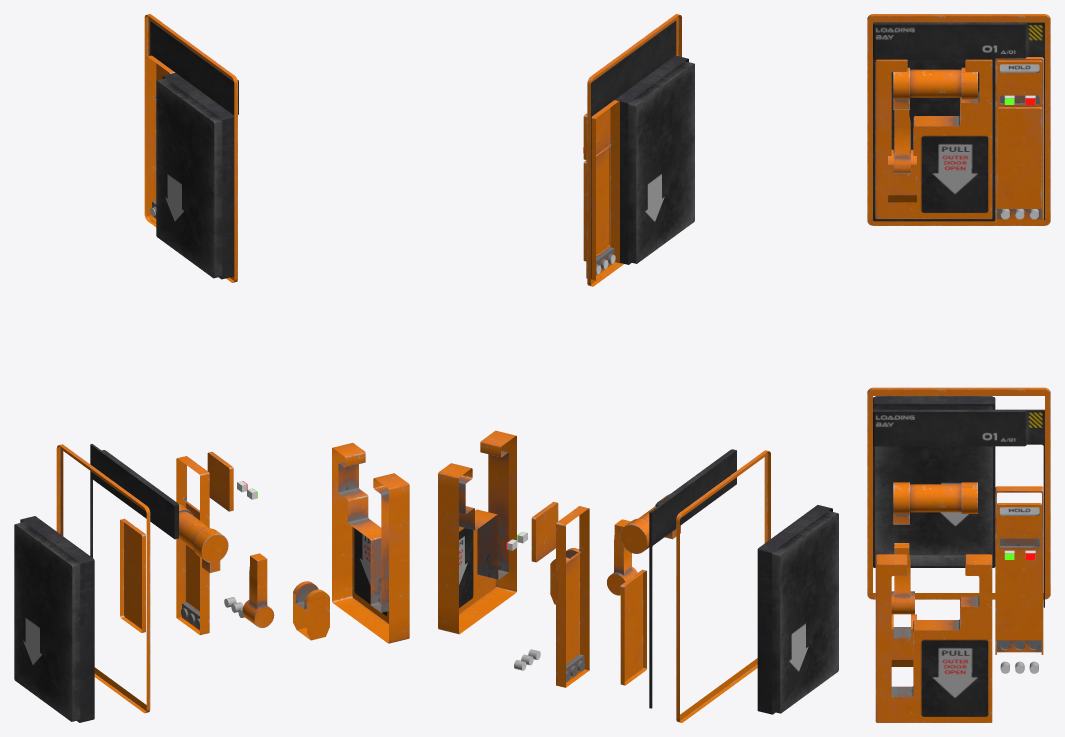
3 views of the same model, side by side, from view 1: azimuth 30°, elevation 25°; view 2: azimuth 150°, elevation 25°; view 3: azimuth 270°, elevation 25° (orthographic). The views are drawn at different scales.
Visible parts, largest first — view 1: Plane.100_Plane.032, Plane.109_Plane.042; view 2: Plane.100_Plane.032, Plane.109_Plane.042; view 3: Plane.100_Plane.032, Plane.109_Plane.042.
Part boxes in pixels (left/top/right/bottom): Plane.100_Plane.032: left=14, top=443, right=409, bottom=722; Plane.109_Plane.042: left=144, top=14, right=238, bottom=282; Plane.100_Plane.032: left=438, top=430, right=838, bottom=722; Plane.109_Plane.042: left=583, top=14, right=694, bottom=286; Plane.100_Plane.032: left=867, top=387, right=1050, bottom=722; Plane.109_Plane.042: left=867, top=14, right=1050, bottom=225.
Bounding box in the file's own units: 2 × 3.48 × 0.9225.
Materials: 1 (1 with a texture image).
